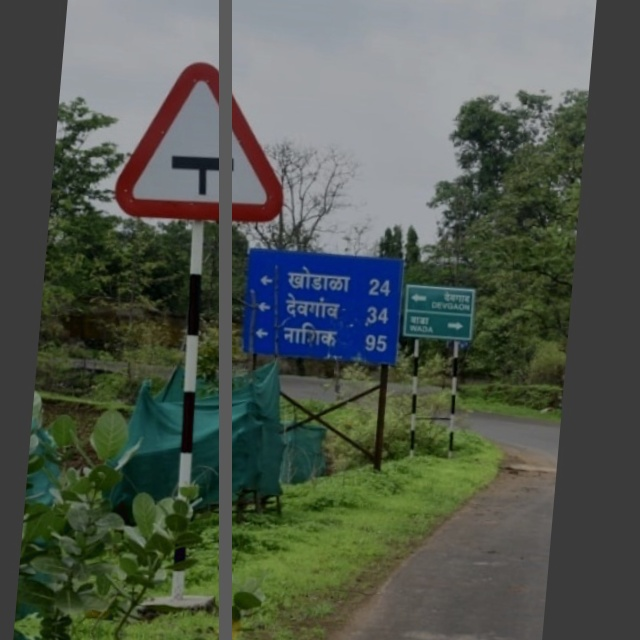T_Intersection: (112, 61, 299, 225)
